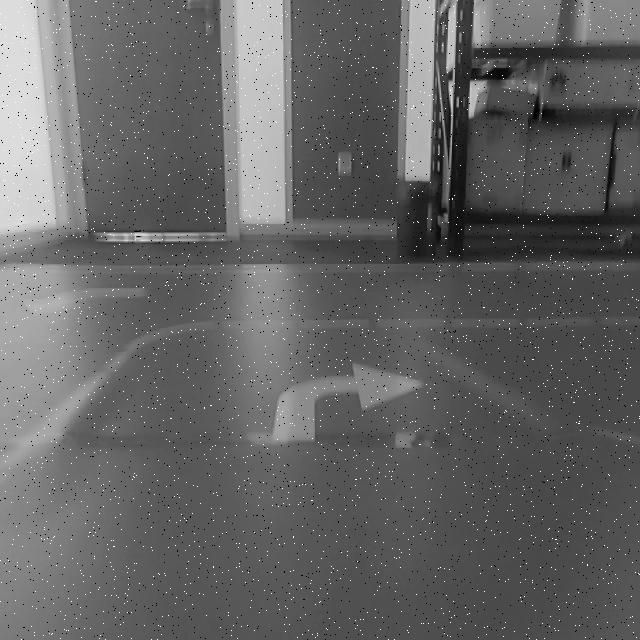left_lane: (0, 339, 150, 479)
